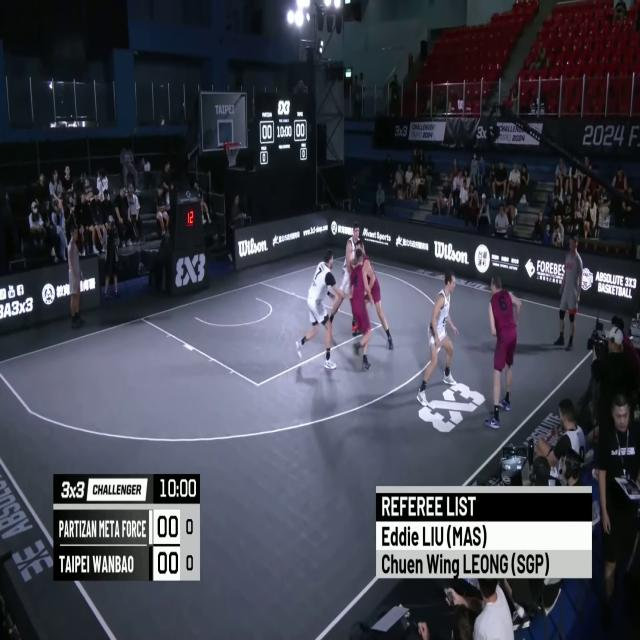hoop: (225, 139, 240, 167)
player: (482, 276, 524, 431), (418, 270, 458, 409), (296, 250, 338, 371), (358, 240, 392, 348), (351, 238, 376, 372), (341, 224, 360, 332)
